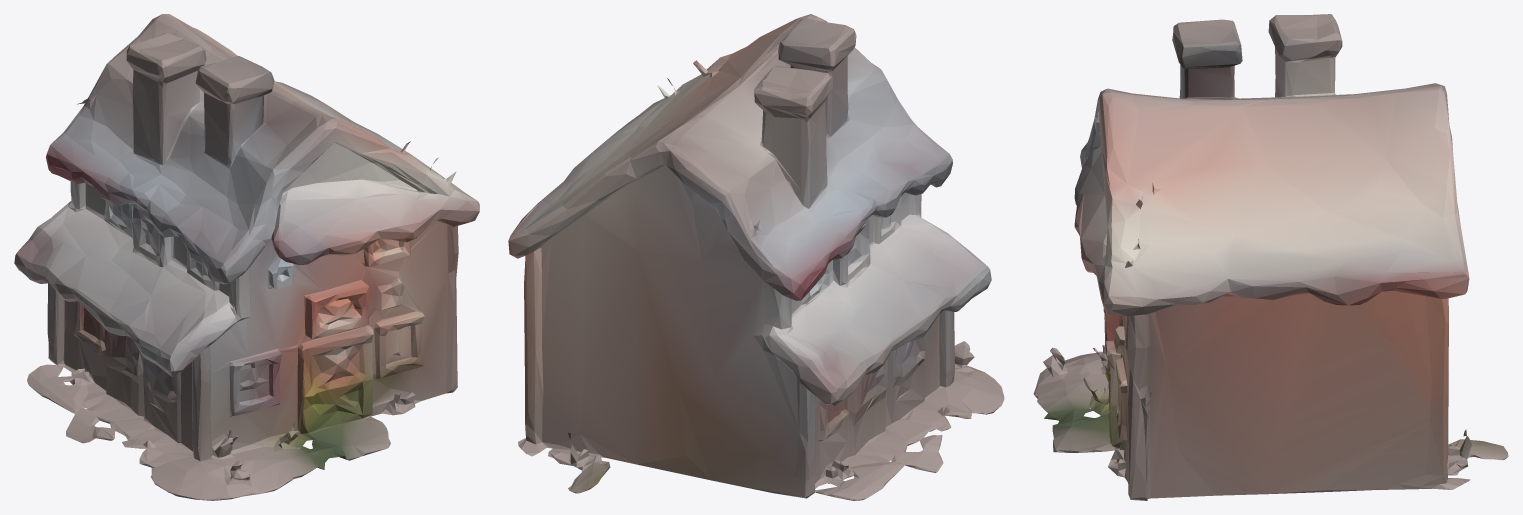
The model's file is ahir.glb.
3 renders of one model, left to right at view 1: azimuth 30°, elevation 25°; view 2: azimuth 150°, elevation 25°; view 3: azimuth 270°, elevation 25°, orthographic. The views are drawn at different scales.
Parts seen in each view (by area): view 1: geometry_0; view 2: geometry_0; view 3: geometry_0.
Boxes of the visible parts, x1,y1,x2,y2 form: geometry_0: (14,14,479,500); geometry_0: (508,14,1004,500); geometry_0: (1033,14,1508,500).
Bounding box in the file's own units: 1 × 1 × 1.11.
